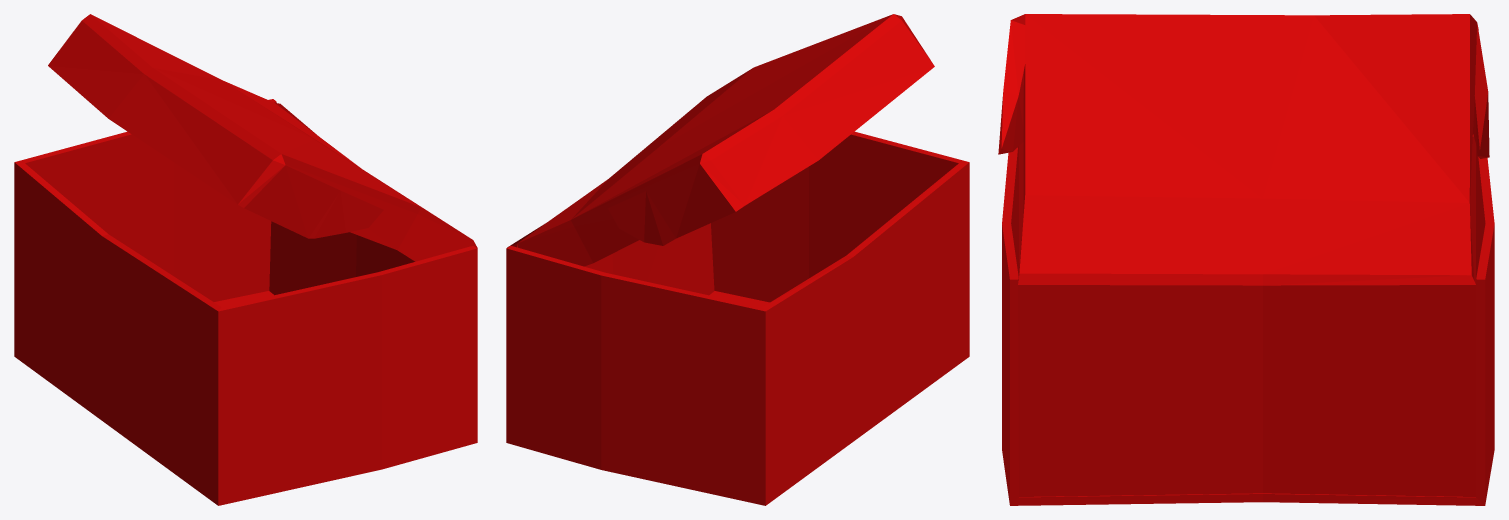
3 renders of one model, left to right at view 1: azimuth 30°, elevation 25°; view 2: azimuth 150°, elevation 25°; view 3: azimuth 270°, elevation 25°, orthographic. The views are drawn at different scales.
Visible parts, largest first — view 1: Mesh; view 2: Mesh; view 3: Mesh.
Boxes of the visible parts, x1,y1,x2,y2 form: Mesh: (14, 14, 477, 505); Mesh: (506, 14, 969, 505); Mesh: (998, 14, 1494, 505).
Bounding box in the file's own units: 0.6162 × 0.7413 × 0.8674.
